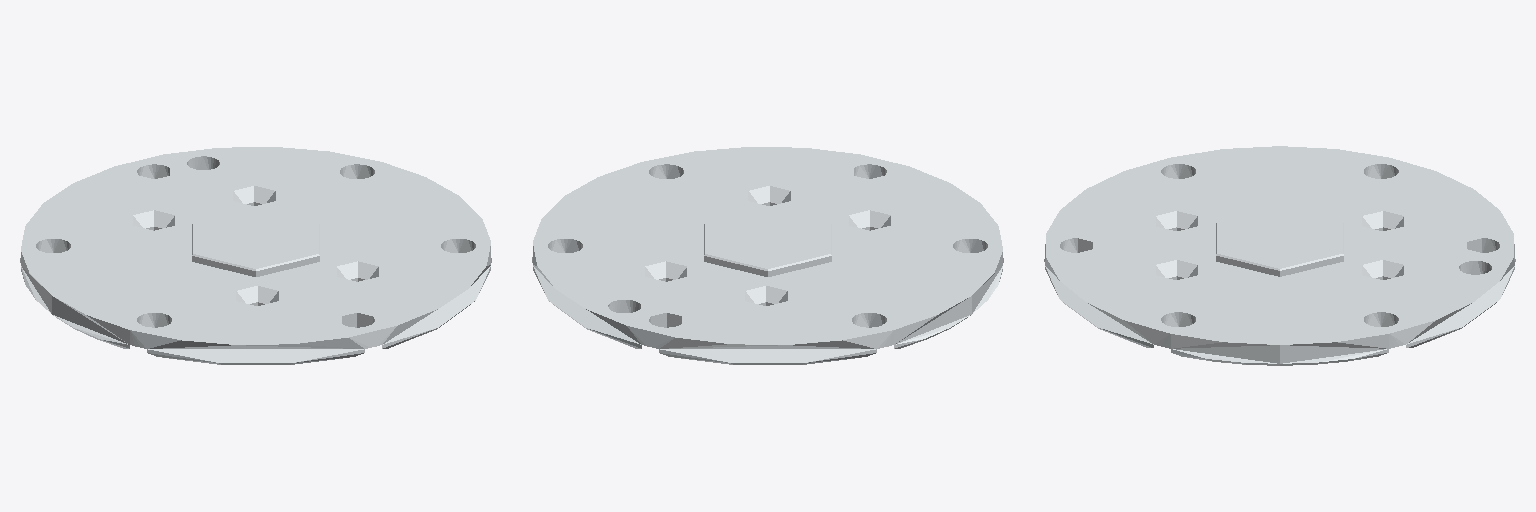
The robot description file, URDF, robot "rm_65_b":
<?xml version="1.0" encoding="utf-8"?>
<robot
  name="rm_65_b">
  <link
    name="base_link">
    <inertial>
      <origin
        xyz="-0.000433277303987328 -3.54664423471128E-05 0.0599427668933796"
        rpy="0 0 0" />
      <mass
        value="0.841070778135659" />
      <inertia
        ixx="0.0017261110801622"
        ixy="2.52746264980217E-06"
        ixz="-3.67690303614961E-05"
        iyy="0.00170987405835604"
        iyz="1.67996364994424E-06"
        izz="0.000904023422915791" />
    </inertial>
    <visual>
      <origin
        xyz="0 0 0"
        rpy="0 0 0" />
      <geometry>
        <mesh
          filename="meshes/base_link.STL" />
      </geometry>
      <material
        name="">
        <color
          rgba="1 1 1 1" />
      </material>
    </visual>
    <collision>
      <origin
        xyz="0 0 0"
        rpy="0 0 0" />
      <geometry>
        <mesh
          filename="meshes/base_link.STL" />
      </geometry>
    </collision>
  </link>
  <link
    name="Link1">
    <inertial>
      <origin
        xyz="1.2226305431569E-08 0.0211079974844683 -0.0251854220842269"
        rpy="0 0 0" />
      <mass
        value="0.593563443690403" />
      <inertia
        ixx="0.00126614120341847"
        ixy="-1.294980943835E-08"
        ixz="-9.80120923066996E-09"
        iyy="0.00118168178300364"
        iyz="-0.00021121727444415"
        izz="0.00056135241627747" />
    </inertial>
    <visual>
      <origin
        xyz="0 0 0"
        rpy="0 0 0" />
      <geometry>
        <mesh
          filename="meshes/link1.STL" />
      </geometry>
      <material
        name="">
        <color
          rgba="1 1 1 1" />
      </material>
    </visual>
    <collision>
      <origin
        xyz="0 0 0"
        rpy="0 0 0" />
      <geometry>
        <mesh
          filename="meshes/link1.STL" />
      </geometry>
    </collision>
  </link>
  <joint
    name="joint1"
    type="revolute">
    <origin
      xyz="0 0 0.2405"
      rpy="0 0 0" />
    <parent
      link="base_link" />
    <child
      link="Link1" />
    <axis
      xyz="0 0 1" />
    <limit
      lower="-3.1"
      upper="3.1"
      effort="60"
      velocity="3.14" />
  </joint>
  <link
    name="Link2">
    <inertial>
      <origin
        xyz="0.152256463426163 4.75383656106654E-07 -0.00620260383607792"
        rpy="0 0 0" />
      <mass
        value="0.864175046869043" />
      <inertia
        ixx="0.00089150298478414"
        ixy="-2.23268489334765E-08"
        ixz="0.00156246461035015"
        iyy="0.00733754343083901"
        iyz="6.28110889329165E-09"
        izz="0.00697869103915473" />
    </inertial>
    <visual>
      <origin
        xyz="0 0 0"
        rpy="0 0 0" />
      <geometry>
        <mesh
          filename="meshes/link2.STL" />
      </geometry>
      <material
        name="">
        <color
          rgba="1 1 1 1" />
      </material>
    </visual>
    <collision>
      <origin
        xyz="0 0 0"
        rpy="0 0 0" />
      <geometry>
        <mesh
          filename="meshes/link2.STL" />
      </geometry>
    </collision>
  </link>
  <joint
    name="joint2"
    type="revolute">
    <origin
      xyz="0 0 0"
      rpy="1.5708 -1.5708 0" />
    <parent
      link="Link1" />
    <child
      link="Link2" />
    <axis
      xyz="0 0 1" />
    <limit
      lower="-2.268"
      upper="2.268"
      effort="60"
      velocity="3.14" />
  </joint>
  <link
    name="Link3">
    <inertial>
      <origin
        xyz="5.05312670989961E-06 -0.0595925663694732 0.010569069212336"
        rpy="0 0 0" />
      <mass
        value="0.289633681624654" />
      <inertia
        ixx="0.00063737100450158"
        ixy="-7.05261293649751E-08"
        ixz="-3.86643272239426E-08"
        iyy="0.00015648388095025"
        iyz="-0.00014461035994916"
        izz="0.000614178164773085" />
    </inertial>
    <visual>
      <origin
        xyz="0 0 0"
        rpy="0 0 0" />
      <geometry>
        <mesh
          filename="meshes/link3.STL" />
      </geometry>
      <material
        name="">
        <color
          rgba="1 1 1 1" />
      </material>
    </visual>
    <collision>
      <origin
        xyz="0 0 0"
        rpy="0 0 0" />
      <geometry>
        <mesh
          filename="meshes/link3.STL" />
      </geometry>
    </collision>
  </link>
  <joint
    name="joint3"
    type="revolute">
    <origin
      xyz="0.256 0 0"
      rpy="0 0 1.5708" />
    <parent
      link="Link2" />
    <child
      link="Link3" />
    <axis
      xyz="0 0 1" />
    <limit
      lower="-2.355"
      upper="2.355"
      effort="30"
      velocity="3.92" />
  </joint>
  <link
    name="Link4">
    <inertial>
      <origin
        xyz="1.15516617405898E-06 -0.0180424468598241 -0.0215394748352687"
        rpy="0 0 0" />
      <mass
        value="0.239419768320061" />
      <inertia
        ixx="0.000285938919722783"
        ixy="3.07101359163101E-09"
        ixz="-2.21994118981953E-09"
        iyy="0.000262727540304212"
        iyz="4.4236583260078E-05"
        izz="0.000119888082791859" />
    </inertial>
    <visual>
      <origin
        xyz="0 0 0"
        rpy="0 0 0" />
      <geometry>
        <mesh
          filename="meshes/link4.STL" />
      </geometry>
      <material
        name="">
        <color
          rgba="1 1 1 1" />
      </material>
    </visual>
    <collision>
      <origin
        xyz="0 0 0"
        rpy="0 0 0" />
      <geometry>
        <mesh
          filename="meshes/link4.STL" />
      </geometry>
    </collision>
  </link>
  <joint
    name="joint4"
    type="revolute">
    <origin
      xyz="0 -0.21 0"
      rpy="1.5708 0 0" />
    <parent
      link="Link3" />
    <child
      link="Link4" />
    <axis
      xyz="0 0 1" />
    <limit
      lower="-3.1"
      upper="3.1"
      effort="10"
      velocity="3.92" />
  </joint>
  <link
    name="Link5">
    <inertial>
      <origin
        xyz="3.19794786262152E-06 -0.0593808368101458 0.00736804250989326"
        rpy="0 0 0" />
      <mass
        value="0.218799761431678" />
      <inertia
        ixx="0.000350540363914072"
        ixy="-3.41781619975602E-08"
        ixz="-1.77056457224373E-08"
        iyy="0.000104927867487581"
        iyz="-7.82431228461971E-05"
        izz="0.000334482418423629" />
    </inertial>
    <visual>
      <origin
        xyz="0 0 0"
        rpy="0 0 0" />
      <geometry>
        <mesh
          filename="meshes/link5.STL" />
      </geometry>
      <material
        name="">
        <color
          rgba="1 1 1 1" />
      </material>
    </visual>
    <collision>
      <origin
        xyz="0 0 0"
        rpy="0 0 0" />
      <geometry>
        <mesh
          filename="meshes/link5.STL" />
      </geometry>
    </collision>
  </link>
  <joint
    name="joint5"
    type="revolute">
    <origin
      xyz="0 0 0"
      rpy="-1.5708 0 0" />
    <parent
      link="Link4" />
    <child
      link="Link5" />
    <axis
      xyz="0 0 1" />
    <limit
      lower="-2.233"
      upper="2.233"
      effort="10"
      velocity="3.92" />
  </joint>
  <link
    name="Link6">
    <inertial>
      <origin
        xyz="0.000714234511756999 -0.000396718732824521 -0.0126723660946126"
        rpy="0 0 0" />
      <mass
        value="0.0649018034311231" />
      <inertia
        ixx="2.02766547502765E-05"
        ixy="-1.32505200276849E-06"
        ixz="-2.5845091522508E-08"
        iyy="1.87986725225022E-05"
        iyz="3.39471452125439E-09"
        izz="3.17885459163081E-05" />
    </inertial>
    <visual>
      <origin
        xyz="0 0 0"
        rpy="0 0 0" />
      <geometry>
        <mesh
          filename="meshes/link6.STL" />
      </geometry>
      <material
        name="">
        <color
          rgba="1 1 1 1" />
      </material>
    </visual>
    <collision>
      <origin
        xyz="0 0 0"
        rpy="0 0 0" />
      <geometry>
        <mesh
          filename="meshes/link6.STL" />
      </geometry>
    </collision>
  </link>
  <joint
    name="joint6"
    type="revolute">
    <origin
      xyz="0 -0.144 0"
      rpy="1.5708 0 0" />
    <parent
      link="Link5" />
    <child
      link="Link6" />
    <axis
      xyz="0 0 1" />
    <limit
      lower="-6.28"
      upper="6.28"
      effort="10"
      velocity="3.92" />
  </joint>
  <link
    name="4C2_baselink">
    <inertial>
      <origin
        xyz="1.5645E-05 -4.1838E-06 0.038"
        rpy="0 0 0" />
      <mass
        value="0.072633" />
      <inertia
        ixx="5.095E-05"
        ixy="-7.3167E-13"
        ixz="2.0229E-08"
        iyy="6.0883E-05"
        iyz="-4.5583E-09"
        izz="1.933E-05" />
    </inertial>
    <visual>
      <origin
        xyz="0 0 0"
        rpy="0 0 0" />
      <geometry>
        <mesh
          filename="meshes/4C2_baselink.STL" />
      </geometry>
      <material
        name="">
        <color
          rgba="0.75294 0.75294 0.75294 1" />
      </material>
    </visual>
    <collision>
      <origin
        xyz="0 0 0"
        rpy="0 0 0" />
      <geometry>
        <mesh
          filename="meshes/4C2_baselink.STL" />
      </geometry>
    </collision>
  </link>
  <link
    name="4C2_Link1">
    <inertial>
      <origin
        xyz="0.0087669 0.009 0.013992"
        rpy="0 0 0" />
      <mass
        value="0.0024292" />
      <inertia
        ixx="5.1061E-07"
        ixy="-8.6739E-19"
        ixz="-2.508E-07"
        iyy="5.7398E-07"
        iyz="-1.3667E-18"
        izz="2.6747E-07" />
    </inertial>
    <visual>
      <origin
        xyz="0 0 0"
        rpy="0 0 0" />
      <geometry>
        <mesh
          filename="meshes/4C2_Link1.STL" />
      </geometry>
      <material
        name="">
        <color
          rgba="0.75294 0.75294 0.75294 1" />
      </material>
    </visual>
    <collision>
      <origin
        xyz="0 0 0"
        rpy="0 0 0" />
      <geometry>
        <mesh
          filename="meshes/4C2_Link1.STL" />
      </geometry>
    </collision>
  </link>
  <joint
    name="4C2_Joint1"
    type="revolute">
    <origin
      xyz="-0.04 -0.009 0.079"
      rpy="0 0 0" />
    <parent
      link="4C2_baselink" />
    <child
      link="4C2_Link1" />
    <axis
      xyz="0 -1 0" />
    <limit
      lower="0"
      upper="0.82"
      effort="1"
      velocity="1" />

  </joint>
  <link
    name="4C2_Link5">
    <inertial>
      <origin
        xyz="0.011864 0.006 0.011367"
        rpy="0 0 0" />
      <mass
        value="0.0045068" />
      <inertia
        ixx="5.1288E-07"
        ixy="-9.8137E-14"
        ixz="-9.4703E-08"
        iyy="5.3203E-07"
        iyz="-6.212E-14"
        izz="2.009E-07" />
    </inertial>
    <visual>
      <origin
        xyz="0 0 0"
        rpy="0 0 0" />
      <geometry>
        <mesh
          filename="meshes/4C2_Link5.STL" />
      </geometry>
      <material
        name="">
        <color
          rgba="0.75294 0.75294 0.75294 1" />
      </material>
    </visual>
    <collision>
      <origin
        xyz="0 0 0"
        rpy="0 0 0" />
      <geometry>
        <mesh
          filename="meshes/4C2_Link5.STL" />
      </geometry>
    </collision>
  </link>
  <joint
    name="4C2_Joint5"
    type="revolute">
    <origin
      xyz="0.0223 0.003 0.035591"
      rpy="0 0 0" />
    <parent
      link="4C2_Link1" />
    <child
      link="4C2_Link5" />
    <axis
      xyz="0 1 0" />
    <limit
      lower="0"
      upper="0.82"
      effort="1"
      velocity="1" />
    <mimic joint="4C2_Joint1"/>
  </joint>
  <link
    name="4C2_Link2">
    <inertial>
      <origin
        xyz="0.0087435 0.009 0.013955"
        rpy="0 0 0" />
      <mass
        value="0.0038971" />
      <inertia
        ixx="5.6941E-07"
        ixy="-1.0711E-18"
        ixz="-2.6891E-07"
        iyy="6.2305E-07"
        iyz="-1.6845E-18"
        izz="3.0871E-07" />
    </inertial>
    <visual>
      <origin
        xyz="0 0 0"
        rpy="0 0 0" />
      <geometry>
        <mesh
          filename="meshes/4C2_Link2.STL" />
      </geometry>
      <material
        name="">
        <color
          rgba="0.75294 0.75294 0.75294 1" />
      </material>
    </visual>
    <collision>
      <origin
        xyz="0 0 0"
        rpy="0 0 0" />
      <geometry>
        <mesh
          filename="meshes/4C2_Link2.STL" />
      </geometry>
    </collision>
  </link>
  <joint
    name="4C2_Joint2"
    type="revolute">
    <origin
      xyz="-0.03 -0.009 0.081"
      rpy="0 0 0" />
    <parent
      link="4C2_baselink" />
    <child
      link="4C2_Link2" />
    <axis
      xyz="0 -1 0" />
    <limit
      lower="0"
      upper="0.82"
      effort="1"
      velocity="1" />
    <mimic joint="4C2_Joint1"/>
  </joint>
  <link
    name="4C2_Link3">
    <inertial>
      <origin
        xyz="-0.0087435 0.009 0.013955"
        rpy="0 0 0" />
      <mass
        value="0.0038971" />
      <inertia
        ixx="5.6941E-07"
        ixy="1.0666E-18"
        ixz="2.6891E-07"
        iyy="6.2305E-07"
        iyz="-1.8084E-18"
        izz="3.0871E-07" />
    </inertial>
    <visual>
      <origin
        xyz="0 0 0"
        rpy="0 0 0" />
      <geometry>
        <mesh
          filename="meshes/4C2_Link3.STL" />
      </geometry>
      <material
        name="">
        <color
          rgba="0.75294 0.75294 0.75294 1" />
      </material>
    </visual>
    <collision>
      <origin
        xyz="0 0 0"
        rpy="0 0 0" />
      <geometry>
        <mesh
          filename="meshes/4C2_Link3.STL" />
      </geometry>
    </collision>
  </link>
  <joint
    name="4C2_Joint3"
    type="revolute">
    <origin
      xyz="0.03 -0.009 0.081"
      rpy="0 0 0" />
    <parent
      link="4C2_baselink" />
    <child
      link="4C2_Link3" />
    <axis
      xyz="0 -1 0" />
    <limit
      lower="-0.82"
      upper="0"
      effort="1"
      velocity="1" />
    <mimic joint="4C2_Joint1" multiplier="-1"  offset="0"/>
  </joint>
  <link
    name="4C2_Link4">
    <inertial>
      <origin
        xyz="-0.0087669 0.009 0.013992"
        rpy="0 0 0" />
      <mass
        value="0.0024292" />
      <inertia
        ixx="5.1061E-07"
        ixy="-9.5279E-19"
        ixz="2.508E-07"
        iyy="5.7398E-07"
        iyz="7.6863E-19"
        izz="2.6747E-07" />
    </inertial>
    <visual>
      <origin
        xyz="0 0 0"
        rpy="0 0 0" />
      <geometry>
        <mesh
          filename="meshes/4C2_Link4.STL" />
      </geometry>
      <material
        name="">
        <color
          rgba="0.75294 0.75294 0.75294 1" />
      </material>
    </visual>
    <collision>
      <origin
        xyz="0 0 0"
        rpy="0 0 0" />
      <geometry>
        <mesh
          filename="meshes/4C2_Link4.STL" />
      </geometry>
    </collision>
  </link>
  <joint
    name="4C2_Joint4"
    type="revolute">
    <origin
      xyz="0.04 -0.009 0.079"
      rpy="0 0 0" />
    <parent
      link="4C2_baselink" />
    <child
      link="4C2_Link4" />
    <axis
      xyz="0 -1 0" />
    <limit
      lower="-0.82"
      upper="0"
      effort="1"
      velocity="1" />
    <mimic joint="4C2_Joint1" multiplier="-1"  offset="0"/>
  </joint>
  <link
    name="4C2_Link6">
    <inertial>
      <origin
        xyz="-0.011864 0.006 0.011367"
        rpy="0 0 0" />
      <mass
        value="0.0045068" />
      <inertia
        ixx="5.1288E-07"
        ixy="-9.8137E-14"
        ixz="9.4703E-08"
        iyy="5.3203E-07"
        iyz="6.2119E-14"
        izz="2.009E-07" />
    </inertial>
    <visual>
      <origin
        xyz="0 0 0"
        rpy="0 0 0" />
      <geometry>
        <mesh
          filename="meshes/4C2_Link6.STL" />
      </geometry>
      <material
        name="">
        <color
          rgba="0.75294 0.75294 0.75294 1" />
      </material>
    </visual>
    <collision>
      <origin
        xyz="0 0 0"
        rpy="0 0 0" />
      <geometry>
        <mesh
          filename="meshes/4C2_Link6.STL" />
      </geometry>
    </collision>
  </link>
  <joint
    name="4C2_Joint6"
    type="revolute">
    <origin
      xyz="-0.0223 0.003 0.035591"
      rpy="0 0 0" />
    <parent
      link="4C2_Link4" />
    <child
      link="4C2_Link6" />
    <axis
      xyz="0 -1 0" />
    <limit
      lower="0"
      upper="0.82"
      effort="1"
      velocity="1" />
    <mimic joint="4C2_Joint1"/>
  </joint>
    <link
    name="fixed_plate_link">
    <inertial>
      <origin
        xyz="0.045819 6.35930000024774E-09 0.0040461"
        rpy="0 0 0" />
      <mass
        value="0.13853" />
      <inertia
        ixx="4.2971E-05"
        ixy="4.08909999999764E-11"
        ixz="3.8593E-07"
        iyy="0.00023364"
        iyz="1.36420000025386E-11"
        izz="0.0002751" />
    </inertial>
    <visual>
      <origin
        xyz="0 0 0"
        rpy="1.5707963267949 0 0" />
      <geometry>
        <mesh
          filename="meshes/fixed_plate.STL" />
      </geometry>
      <material
        name="">
        <color
          rgba="0.89804 0.91765 0.92941 1" />
        <texture
          filename="textures/" />
      </material>
    </visual>
    <collision>
      <origin
        xyz="0 0 0"
        rpy="1.5707963267949 0 0" />
      <geometry>
        <mesh
          filename="meshes/fixed_plate.STL" />
      </geometry>
    </collision>
  </link>
  <joint
    name="fixed_plate"
    type="fixed">
    <origin
      xyz="0 0 -0.052"
      rpy="0 0 0" />
    <parent
      link="Link6" />
    <child
      link="fixed_plate_link" />
  </joint>
  <joint
    name="gripper_base"
    type="fixed">
    <orgin
      xyz="0 0 0"
      rpy="0.0 0 0.0"/>
    <parent
      link="Link6" />
    <child
      link="4C2_baselink" />
  </joint>
</robot>

--- Render facts (derived) ---
The picture shows the robot from 3 angles, left to right: view 1: azimuth 30°, elevation 25°; view 2: azimuth 150°, elevation 25°; view 3: azimuth 270°, elevation 25°; orthographic projection.
Model rm_65_b with 15 links and 14 joints (12 revolute, 2 fixed), rooted at base_link, posed all joints at 0.
Links seen in each view (by area): view 1: fixed_plate_link; view 2: fixed_plate_link; view 3: fixed_plate_link.
Link boxes in pixels (left/top/right/bottom): fixed_plate_link: left=20, top=147, right=491, bottom=364; fixed_plate_link: left=532, top=147, right=1003, bottom=364; fixed_plate_link: left=1044, top=146, right=1515, bottom=365.
Size in the robot's own frame: 0.057 by 0.057 by 0.005 metres.
Meshes: 15 distinct files referenced, 1 mesh visuals loaded (1 binary STL); not drawn: 14 (reference not matched to a file when rendering).